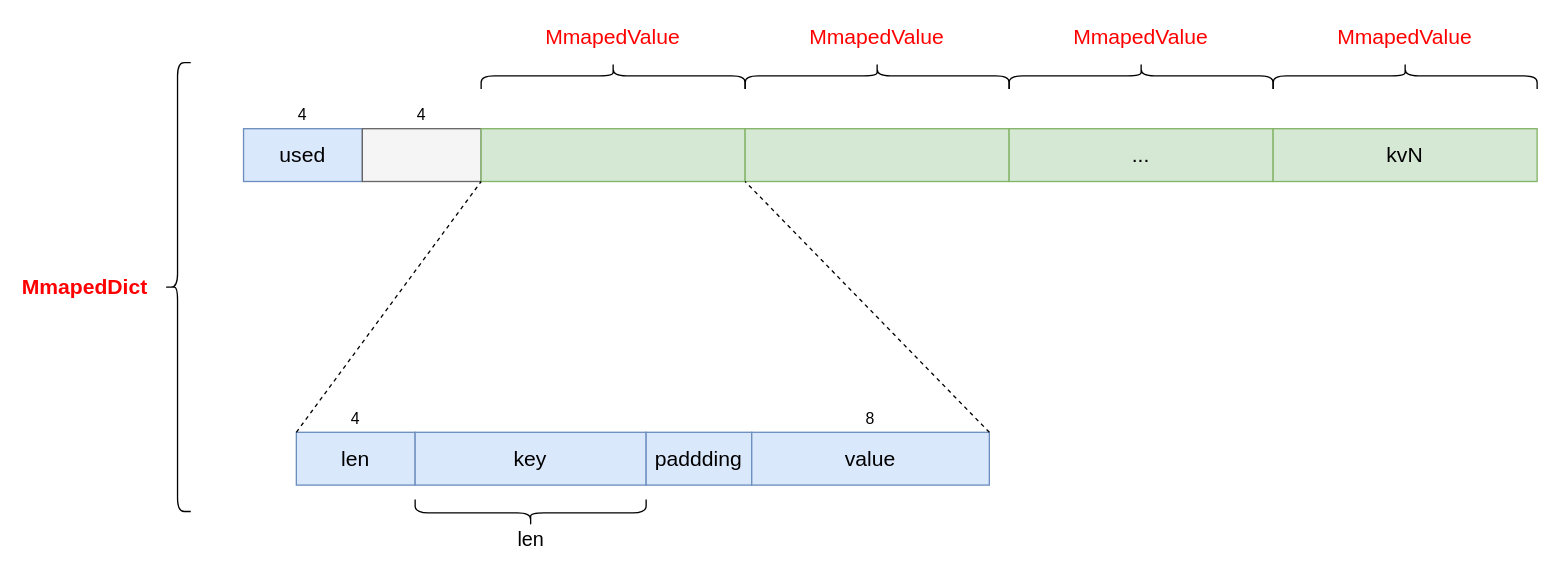
The diagram is 1560 pixels wide and 574 high, and some of its shapes have lost their labels. The centre of each missing label's shape, as x and y in pixels:
"kv1" goes at [612,154].
"kv2" goes at [876,154].
